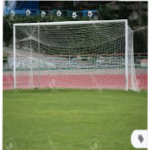goals: (11, 19, 138, 97)
